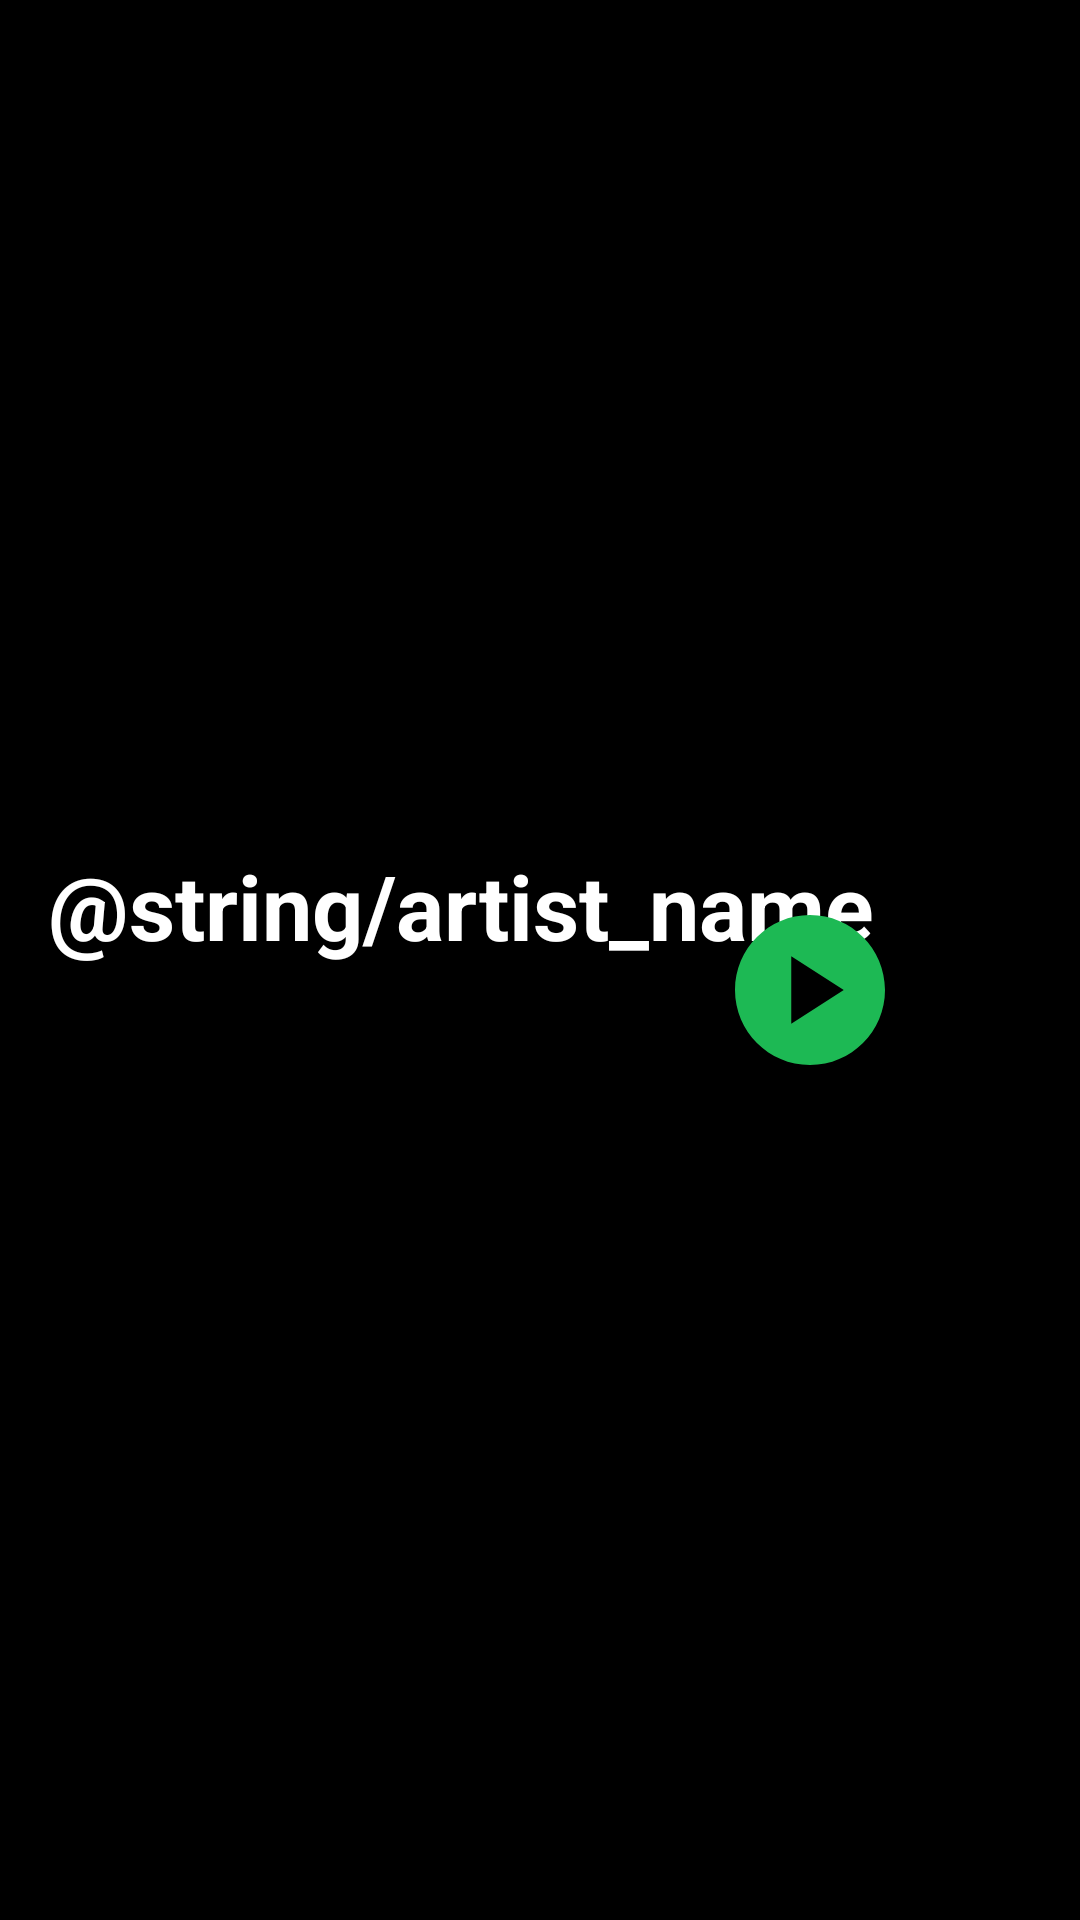

Named icons in this screenshot (1080*1920) and their bounding boxes, (x1, y1, x2, y2):
play circle: (720, 900, 885, 1065)
